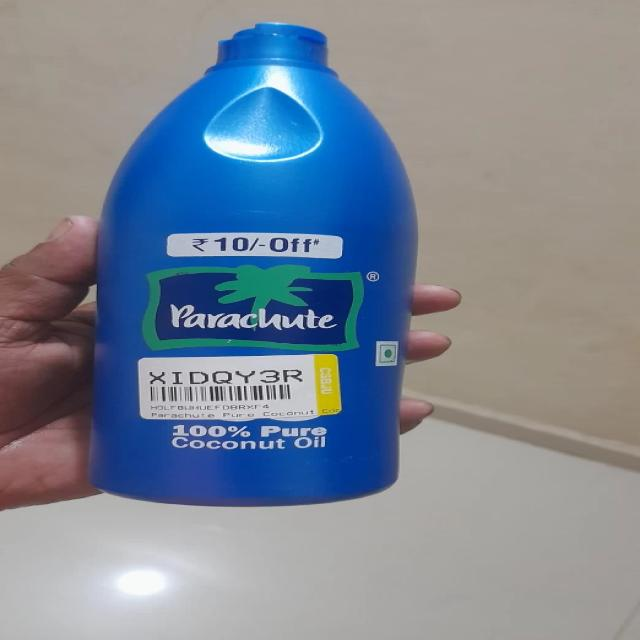parachute_oil: (96, 20, 412, 507)
